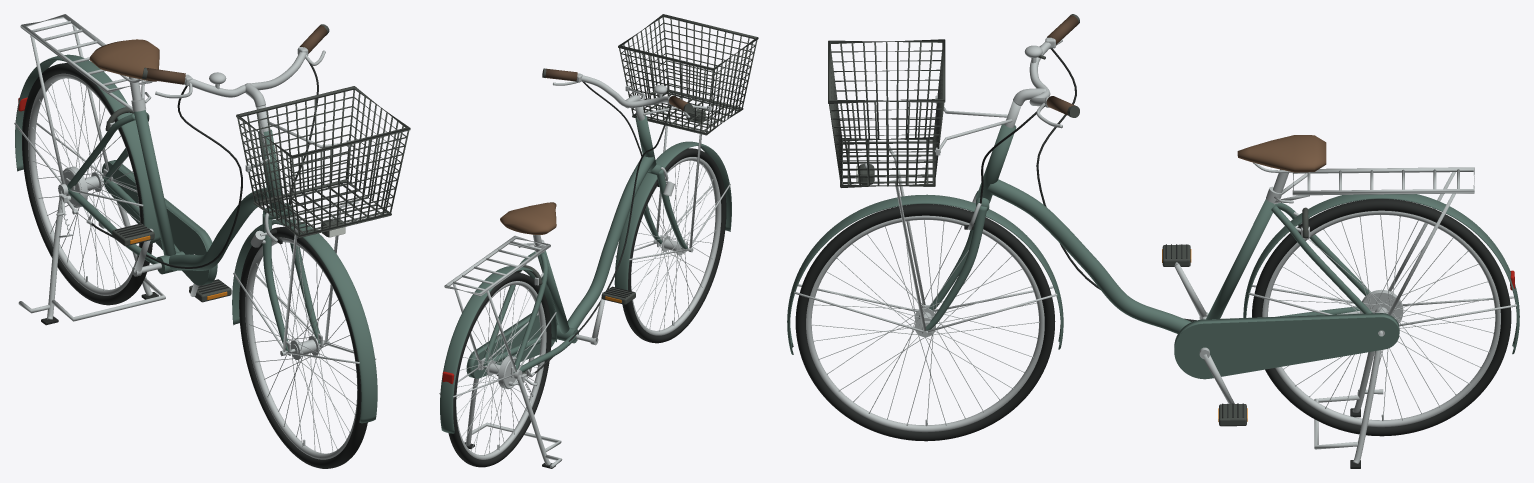
Rendered from city_bicycle.glb.
3 views of the same model, side by side, from view 1: azimuth 30°, elevation 25°; view 2: azimuth 150°, elevation 25°; view 3: azimuth 270°, elevation 25° (orthographic). The views are drawn at different scales.
Visible parts, largest first — view 1: Front curved steel fender, Front wheel rubber tire, Rear wheel rubber tire, Rear curved steel fender, Front wheel rolled rim, Rear wheel rolled rim, Sculpted padded saddle, Full chain guard inner sheet, Seat tube, Low step continuous curved main frame, Basket continuous rim 1.035, Swept semi-upright handlebar (+22 smaller); view 2: Rear curved steel fender, Front curved steel fender, Front wheel rubber tire, Low step continuous curved main frame, Rear wheel rubber tire, Front wheel rolled rim, Rear wheel rolled rim, Sculpted padded saddle, Full chain guard inner sheet, Basket continuous rim 1.035, Rear carrier perimeter, Seatstay -1 (+17 smaller); view 3: Full chain guard outer sheet, Front wheel rubber tire, Rear wheel rubber tire, Front wheel rolled rim, Low step continuous curved main frame, Rear wheel rolled rim, Front curved steel fender, Rear curved steel fender, Sculpted padded saddle, Rear carrier perimeter, Seat tube, Swept fork blade 1 (+6 smaller).
Part boxes in pixels (x1,y1,x2,y2): Front curved steel fender: (232, 219, 377, 423); Front wheel rubber tire: (239, 226, 367, 468); Rear wheel rubber tire: (22, 63, 152, 305); Rear curved steel fender: (15, 54, 160, 243); Front wheel rolled rim: (245, 237, 357, 459); Rear wheel rolled rim: (28, 73, 140, 295); Sculpted padded saddle: (89, 39, 159, 81); Full chain guard inner sheet: (102, 162, 209, 285); Seat tube: (134, 110, 175, 255); Low step continuous curved main frame: (169, 187, 268, 270); Basket continuous rim 1.035: (236, 86, 410, 158); Swept semi-upright handlebar: (184, 47, 306, 97); Rear curved steel fender: (440, 266, 556, 433); Front curved steel fender: (614, 141, 731, 290); Front wheel rubber tire: (622, 148, 726, 343); Low step continuous curved main frame: (567, 156, 654, 329); Rear wheel rubber tire: (448, 272, 551, 467); Front wheel rolled rim: (631, 157, 721, 335); Rear wheel rolled rim: (456, 281, 546, 459); Sculpted padded saddle: (500, 202, 556, 234); Full chain guard inner sheet: (473, 315, 558, 378); Basket continuous rim 1.035: (618, 14, 758, 70); Rear carrier perimeter: (444, 235, 550, 296); Seatstay -1: (513, 253, 548, 372); Full chain guard outer sheet: (1174, 317, 1399, 379); Front wheel rubber tire: (795, 204, 1055, 441); Rear wheel rubber tire: (1252, 199, 1511, 436); Front wheel rolled rim: (806, 215, 1044, 432); Low step continuous curved main frame: (987, 179, 1191, 333); Rear wheel rolled rim: (1262, 210, 1500, 427); Front curved steel fender: (787, 194, 1063, 354); Rear curved steel fender: (1243, 194, 1519, 354); Sculpted padded saddle: (1237, 135, 1326, 172); Rear carrier perimeter: (1292, 167, 1474, 195); Seat tube: (1206, 199, 1276, 319); Swept fork blade 1: (926, 206, 987, 330).
Bounding box in the file's own units: 0.5761 × 1.07 × 1.86.
